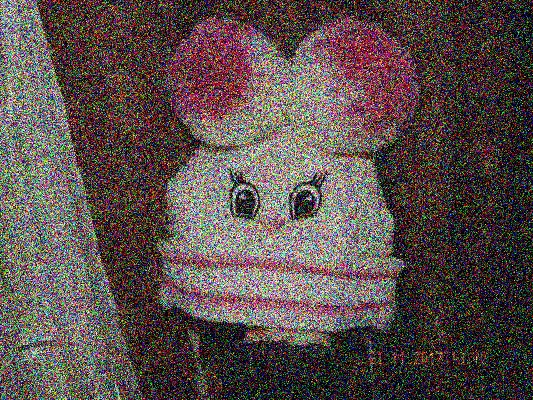Hat: (113, 3, 432, 349)
